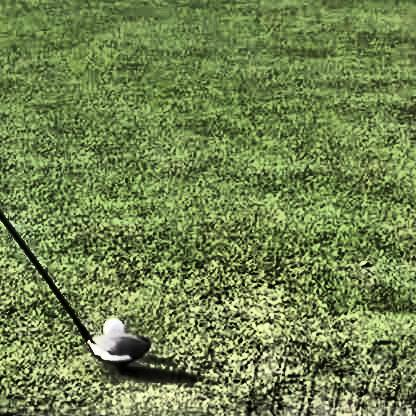golfball: (99, 314, 121, 337)
